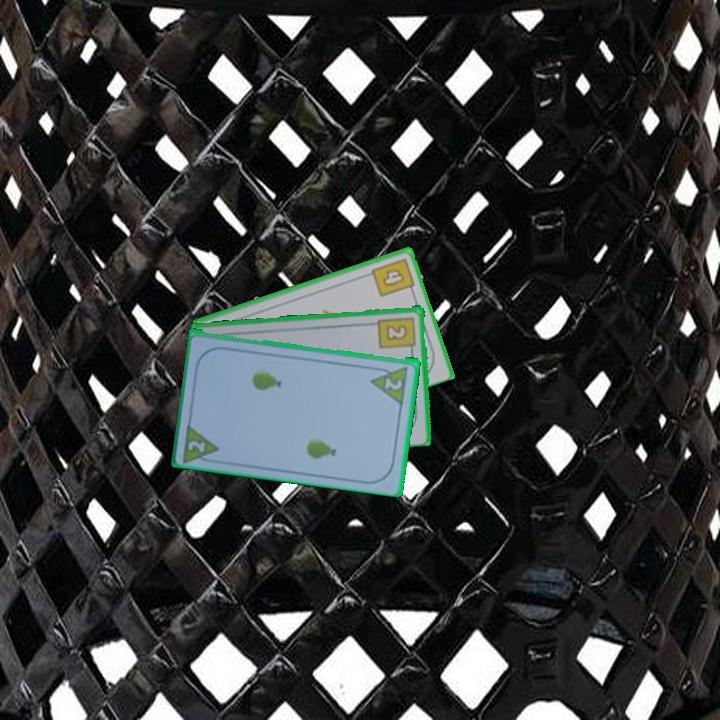2b: (375, 313, 419, 355)
2p: (381, 374, 406, 393), (184, 436, 208, 455)
4b: (368, 254, 417, 300)
